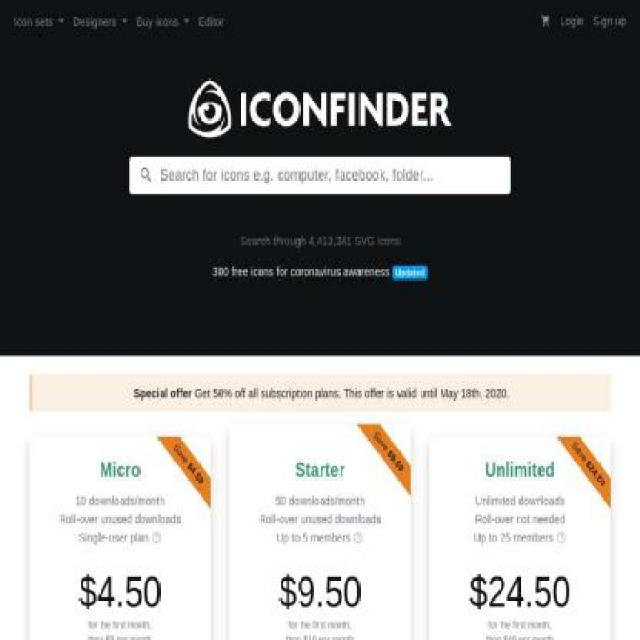button: (212, 263, 428, 279), (68, 9, 132, 33), (132, 9, 194, 33), (9, 9, 69, 33), (588, 8, 630, 34), (554, 8, 588, 34), (194, 9, 229, 33), (536, 7, 556, 35)
field: (153, 155, 510, 194)
